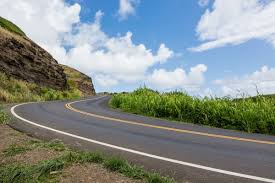strada: (3, 114, 275, 178)
